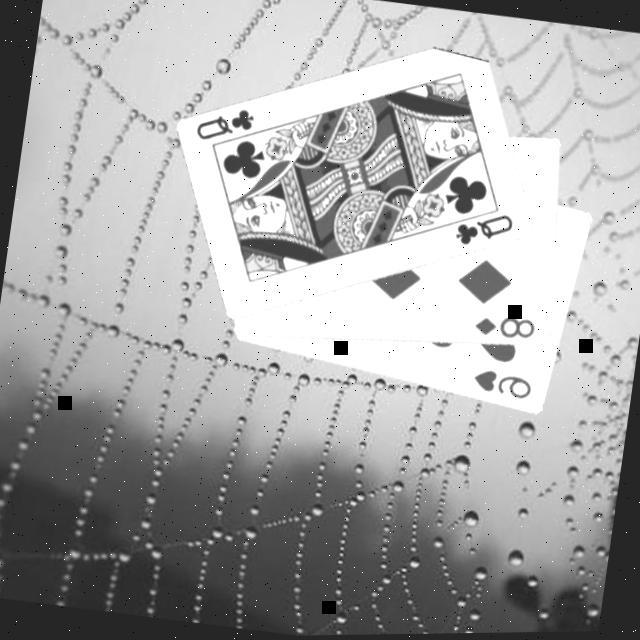8D: (472, 307, 541, 345)
9H: (470, 364, 539, 405)
QC: (192, 98, 261, 149), (452, 204, 519, 255)
